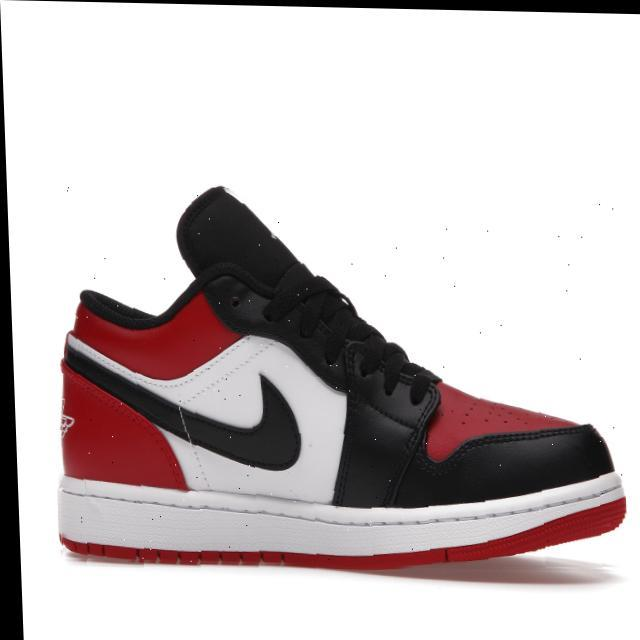J1_InsoleChar: (55, 184, 627, 572)
J1_ShoeLogo: (58, 412, 75, 437)
J1_StitchPattern: (175, 184, 436, 404), (55, 472, 626, 565), (62, 328, 301, 471), (263, 268, 434, 404), (61, 329, 200, 447), (379, 378, 442, 507), (59, 535, 288, 568), (336, 334, 435, 405), (441, 420, 595, 464), (171, 400, 213, 493)
